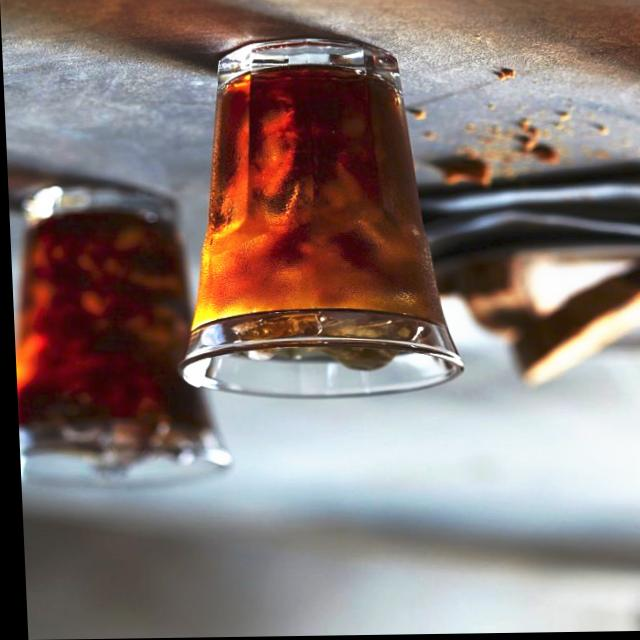drink: (183, 62, 464, 399)
